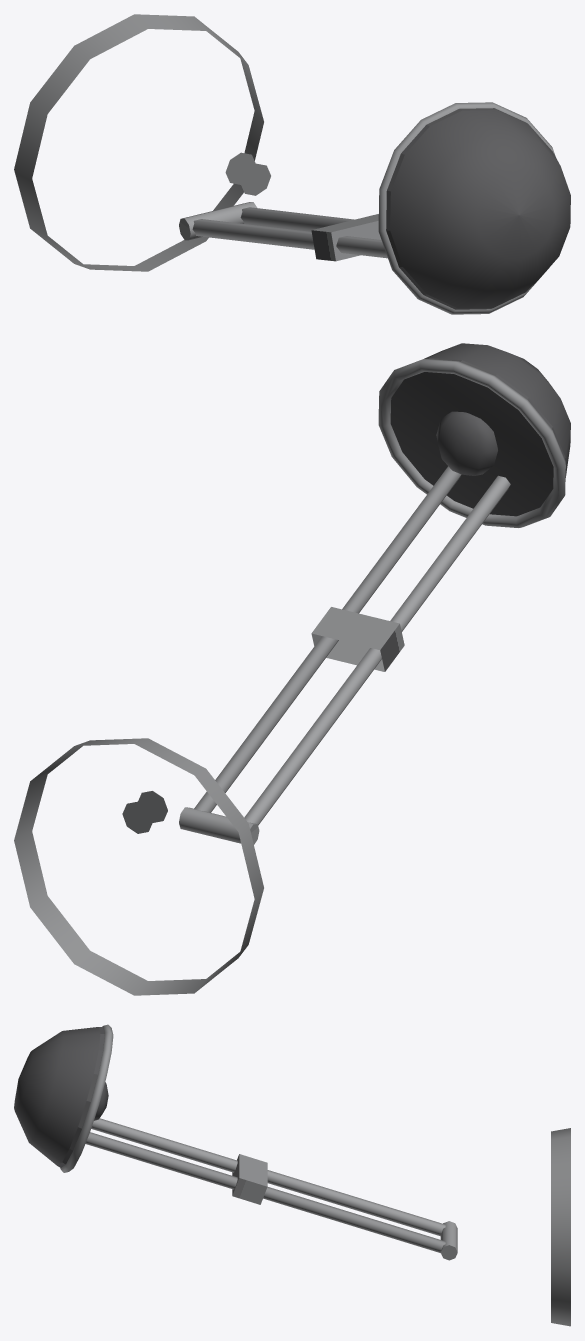
3 renders of one model, top to bottom at view 1: azimuth 30°, elevation 25°; view 2: azimuth 150°, elevation 25°; view 3: azimuth 270°, elevation 25°, orthographic. The views are drawn at different scales.
Size of the model in its own units: 0.28 by 0.4427 by 0.7824.
